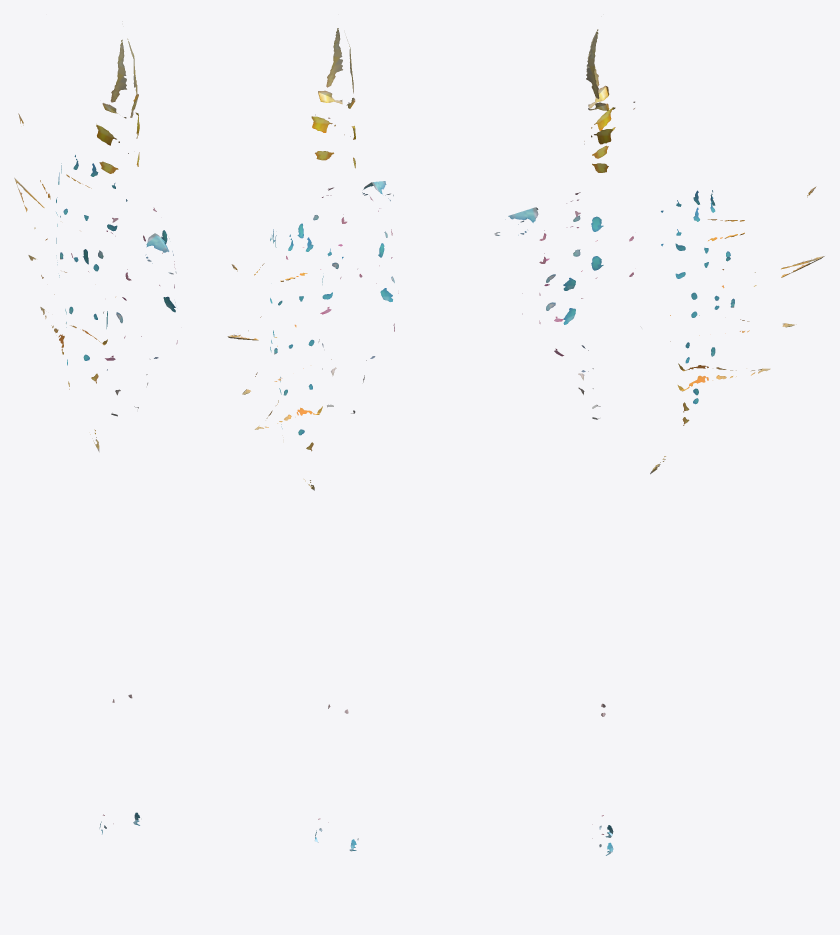
Rendered from 19pdz_012f14bb.glb.
3 renders of one model, left to right at view 1: azimuth 30°, elevation 25°; view 2: azimuth 150°, elevation 25°; view 3: azimuth 270°, elevation 25°, orthographic. The views are drawn at different scales.
Bounding box in the file's own units: 0.129 × 1.37 × 0.5188.
Materials: 1 (1 with a texture image).
